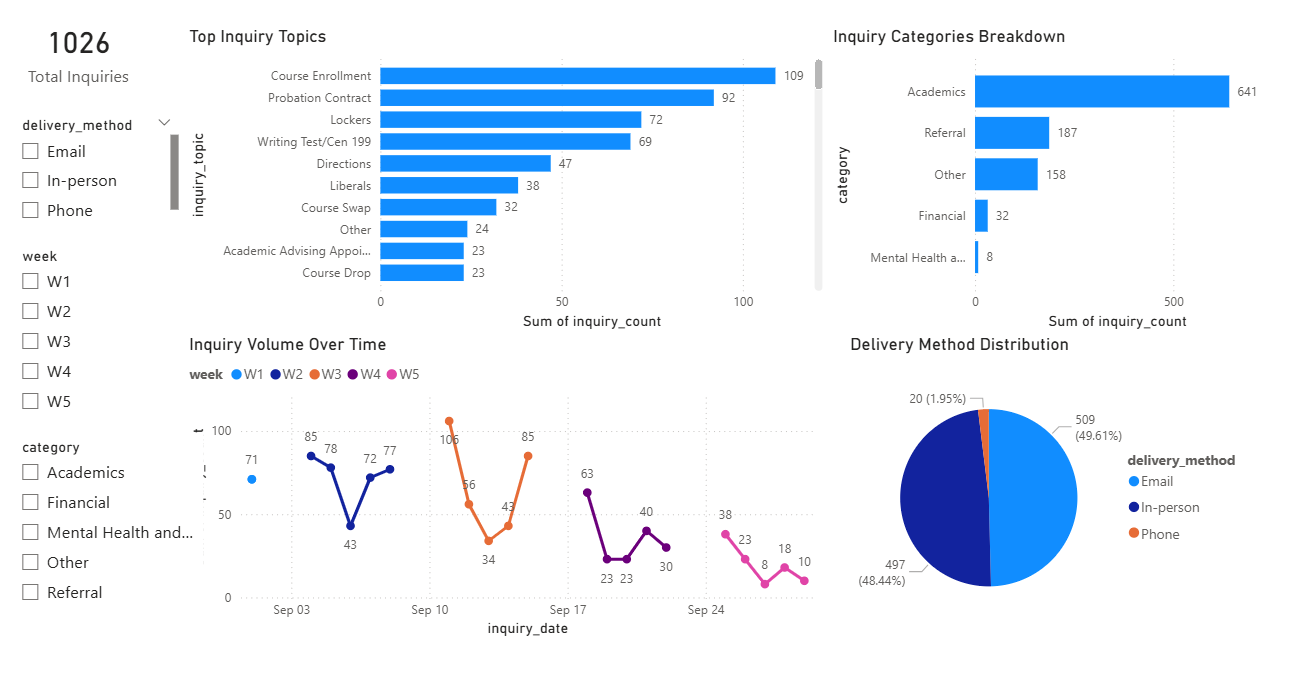

The page's visual inventory and layout, read from the dashboard file:
{"tool":"powerbi","page":{"name":"Page 1","canvas":[1280,720],"ordinal":0},"visuals":[{"type":"card","title":"Total Inquiries","fields":{"Values":["Sum(september_master.inquiry_count)"]},"box":[21.4,13.6,135.2,93.4],"z":0},{"type":"barChart","title":"Top Inquiry Topics","fields":{"Category":["september_master.inquiry_topic"],"Y":["Sum(september_master.inquiry_count)"]},"box":[191.6,36,626.4,299.6],"z":1000},{"type":"lineChart","title":"Inquiry Volume Over Time","fields":{"Y":["Sum(september_master.inquiry_count)"],"Category":["september_master.inquiry_date"],"Series":["september_master.week"]},"box":[191.6,335.6,626.4,299.6],"z":2000},{"type":"slicer","fields":{"Values":["september_master.delivery_method"]},"box":[21.4,118.7,170.2,112.8],"z":3000},{"type":"pieChart","title":"Delivery Method Distribution","fields":{"Category":["september_master.delivery_method"],"Y":["Sum(september_master.inquiry_count)"]},"box":[834.5,335.6,399.8,299.6],"z":3001},{"type":"barChart","title":"Inquiry Categories Breakdown","fields":{"Category":["september_master.category"],"Y":["Sum(september_master.inquiry_count)"]},"box":[818,36,435.7,299.6],"z":3002},{"type":"slicer","fields":{"Values":["september_master.week"]},"box":[21.4,246.1,155.6,178],"z":3003},{"type":"slicer","fields":{"Values":["september_master.category"]},"box":[21.4,431.9,188.7,178],"z":3004}]}

Visuals, with their boxes on the page's 1280x720 design canvas (x1, y1, x2, y2). These are canvas units, not pixel positions in the 1290x694 screenshot, which may show the page scaled, cropped or inside an application window:
"Total Inquiries" card: x1=21 y1=14 x2=157 y2=107
"Top Inquiry Topics" barChart: x1=192 y1=36 x2=818 y2=336
"Inquiry Volume Over Time" lineChart: x1=192 y1=336 x2=818 y2=635
slicer - september_master.delivery_method: x1=21 y1=119 x2=192 y2=232
"Delivery Method Distribution" pieChart: x1=834 y1=336 x2=1234 y2=635
"Inquiry Categories Breakdown" barChart: x1=818 y1=36 x2=1254 y2=336
slicer - september_master.week: x1=21 y1=246 x2=177 y2=424
slicer - september_master.category: x1=21 y1=432 x2=210 y2=610
